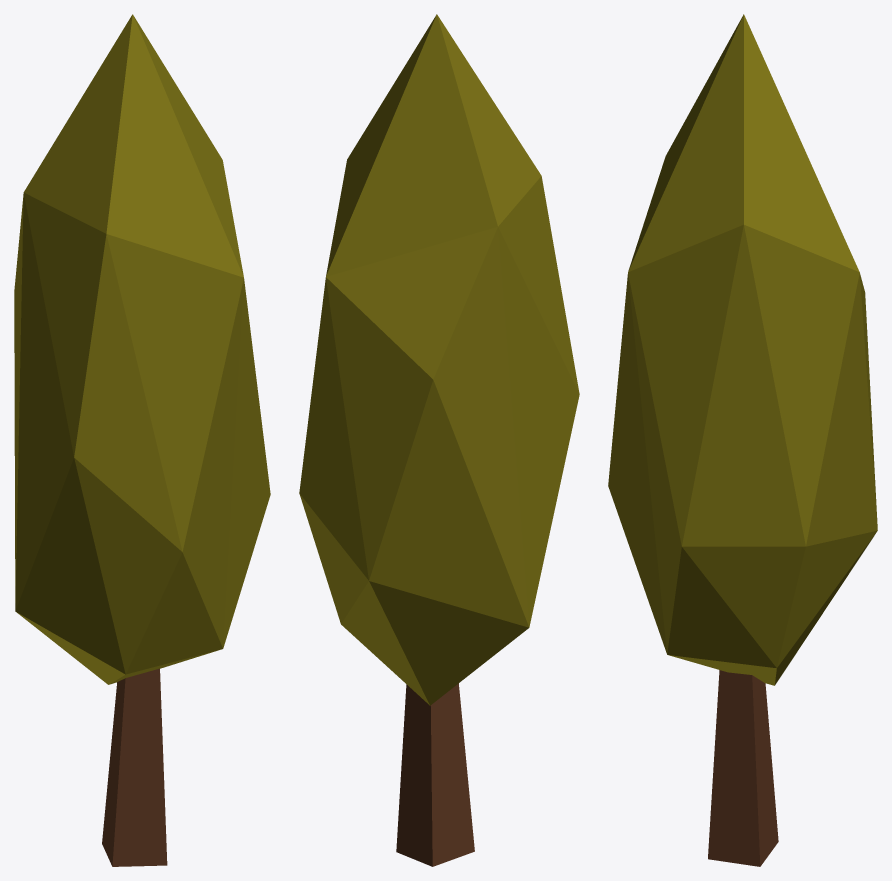
Rendered from PointyTree1.fbx.
3 renders of one model, left to right at view 1: azimuth 30°, elevation 25°; view 2: azimuth 150°, elevation 25°; view 3: azimuth 270°, elevation 25°, orthographic.
Parts seen in each view (by area): view 1: PointyTree1; view 2: PointyTree1; view 3: PointyTree1.
Part boxes in pixels (x1,y1,x2,y2): PointyTree1: [14, 14, 270, 866]; PointyTree1: [299, 14, 579, 866]; PointyTree1: [608, 14, 877, 866].
Bounding box in the file's own units: 81.9 × 311 × 90.86.
